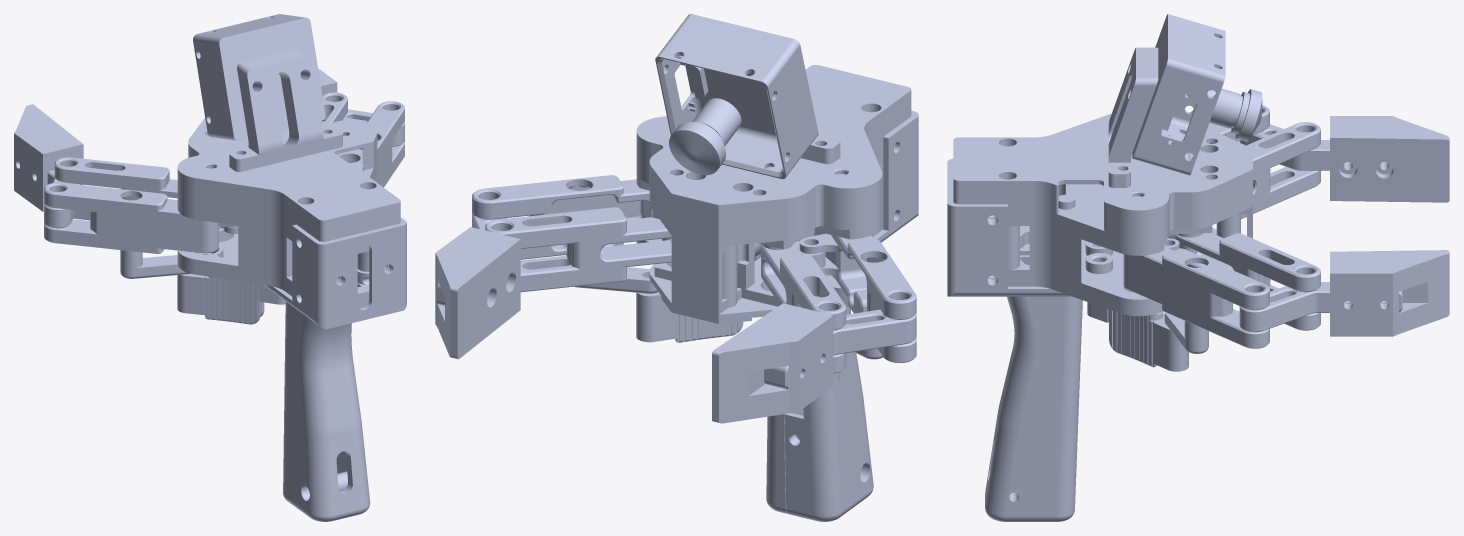
Rendered from umi-gripper.glb.
3 views of the same model, side by side, from view 1: azimuth 30°, elevation 25°; view 2: azimuth 150°, elevation 25°; view 3: azimuth 270°, elevation 25° (orthographic). The views are drawn at different scales.
Visible parts, largest first — view 1: NAUO13, NAUO27, NAUO8, NAUO25, NAUO2, NAUO17, NAUO11, NAUO23, NAUO12, NAUO7, NAUO6, NAUO5 (+4 smaller); view 2: NAUO27, NAUO2, NAUO13, NAUO23, NAUO4, NAUO21, NAUO5, NAUO8, NAUO6, NAUO11, NAUO7, NAUO1 (+5 smaller); view 3: NAUO17, NAUO27, NAUO23, NAUO2, NAUO21, NAUO5, NAUO6, NAUO11, NAUO4, NAUO7, NAUO25, NAUO15 (+4 smaller).
Boxes of the visible parts, x1,y1,x2,y2 form: NAUO13: [264, 224, 364, 521]; NAUO27: [177, 117, 400, 241]; NAUO8: [44, 182, 218, 253]; NAUO25: [229, 48, 342, 171]; NAUO2: [193, 14, 325, 140]; NAUO17: [334, 217, 406, 517]; NAUO11: [177, 226, 369, 308]; NAUO23: [14, 104, 83, 211]; NAUO12: [177, 274, 285, 324]; NAUO7: [54, 157, 221, 228]; NAUO6: [177, 149, 377, 257]; NAUO5: [367, 101, 404, 187]; NAUO27: [636, 65, 911, 237]; NAUO2: [655, 14, 818, 179]; NAUO13: [784, 110, 918, 521]; NAUO23: [712, 303, 833, 423]; NAUO4: [485, 207, 671, 292]; NAUO21: [435, 227, 520, 359]; NAUO5: [472, 175, 671, 259]; NAUO8: [799, 233, 916, 362]; NAUO6: [636, 143, 883, 280]; NAUO11: [636, 180, 883, 323]; NAUO7: [761, 243, 846, 373]; NAUO1: [669, 98, 741, 175]; NAUO17: [947, 182, 1082, 521]; NAUO27: [953, 113, 1252, 239]; NAUO23: [1330, 116, 1449, 202]; NAUO2: [1132, 14, 1225, 175]; NAUO21: [1330, 250, 1449, 336]; NAUO5: [1123, 238, 1269, 348]; NAUO6: [987, 184, 1252, 260]; NAUO11: [987, 226, 1252, 316]; NAUO4: [1174, 233, 1320, 330]; NAUO7: [1241, 122, 1320, 218]; NAUO25: [1108, 47, 1158, 187]; NAUO15: [1087, 302, 1188, 371].
Size of the model in its own units: 149 by 172 by 166.
